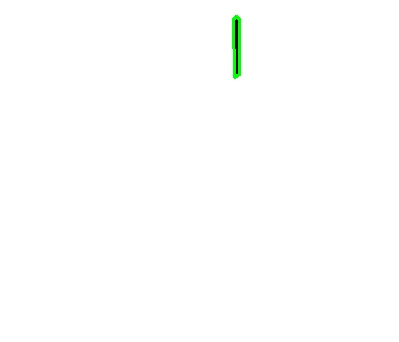line_segment: (233, 16, 240, 78)
